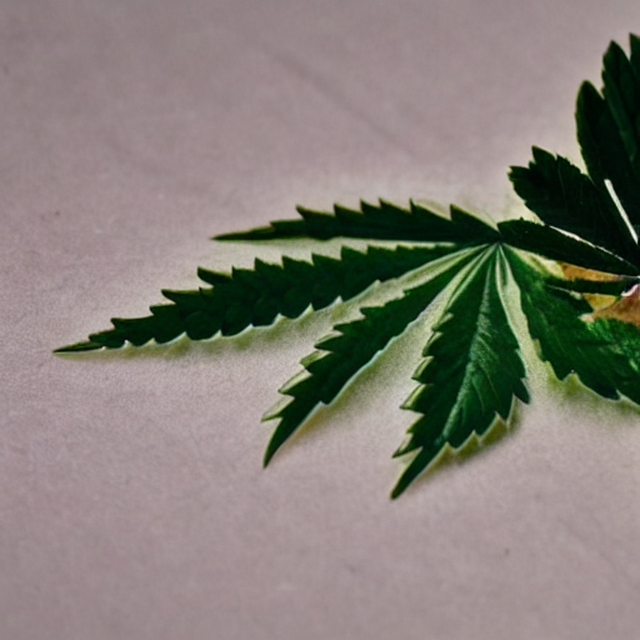Marijuana Leaf: (51, 29, 639, 501)
